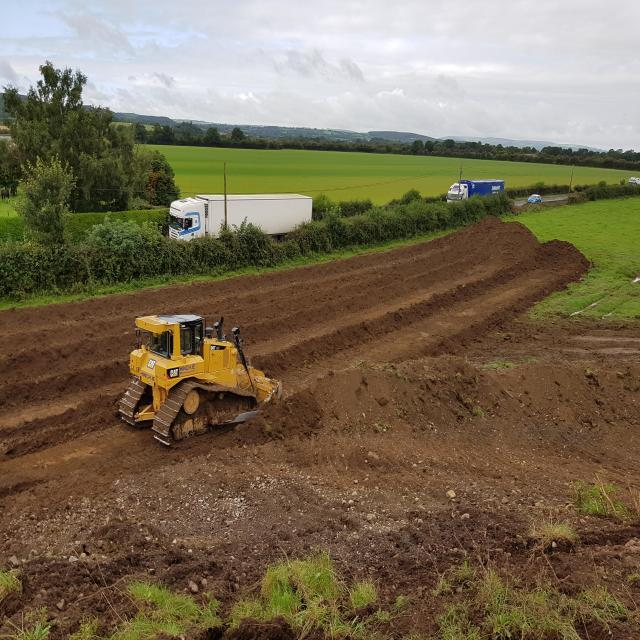Bulldozer: (109, 308, 331, 460)
